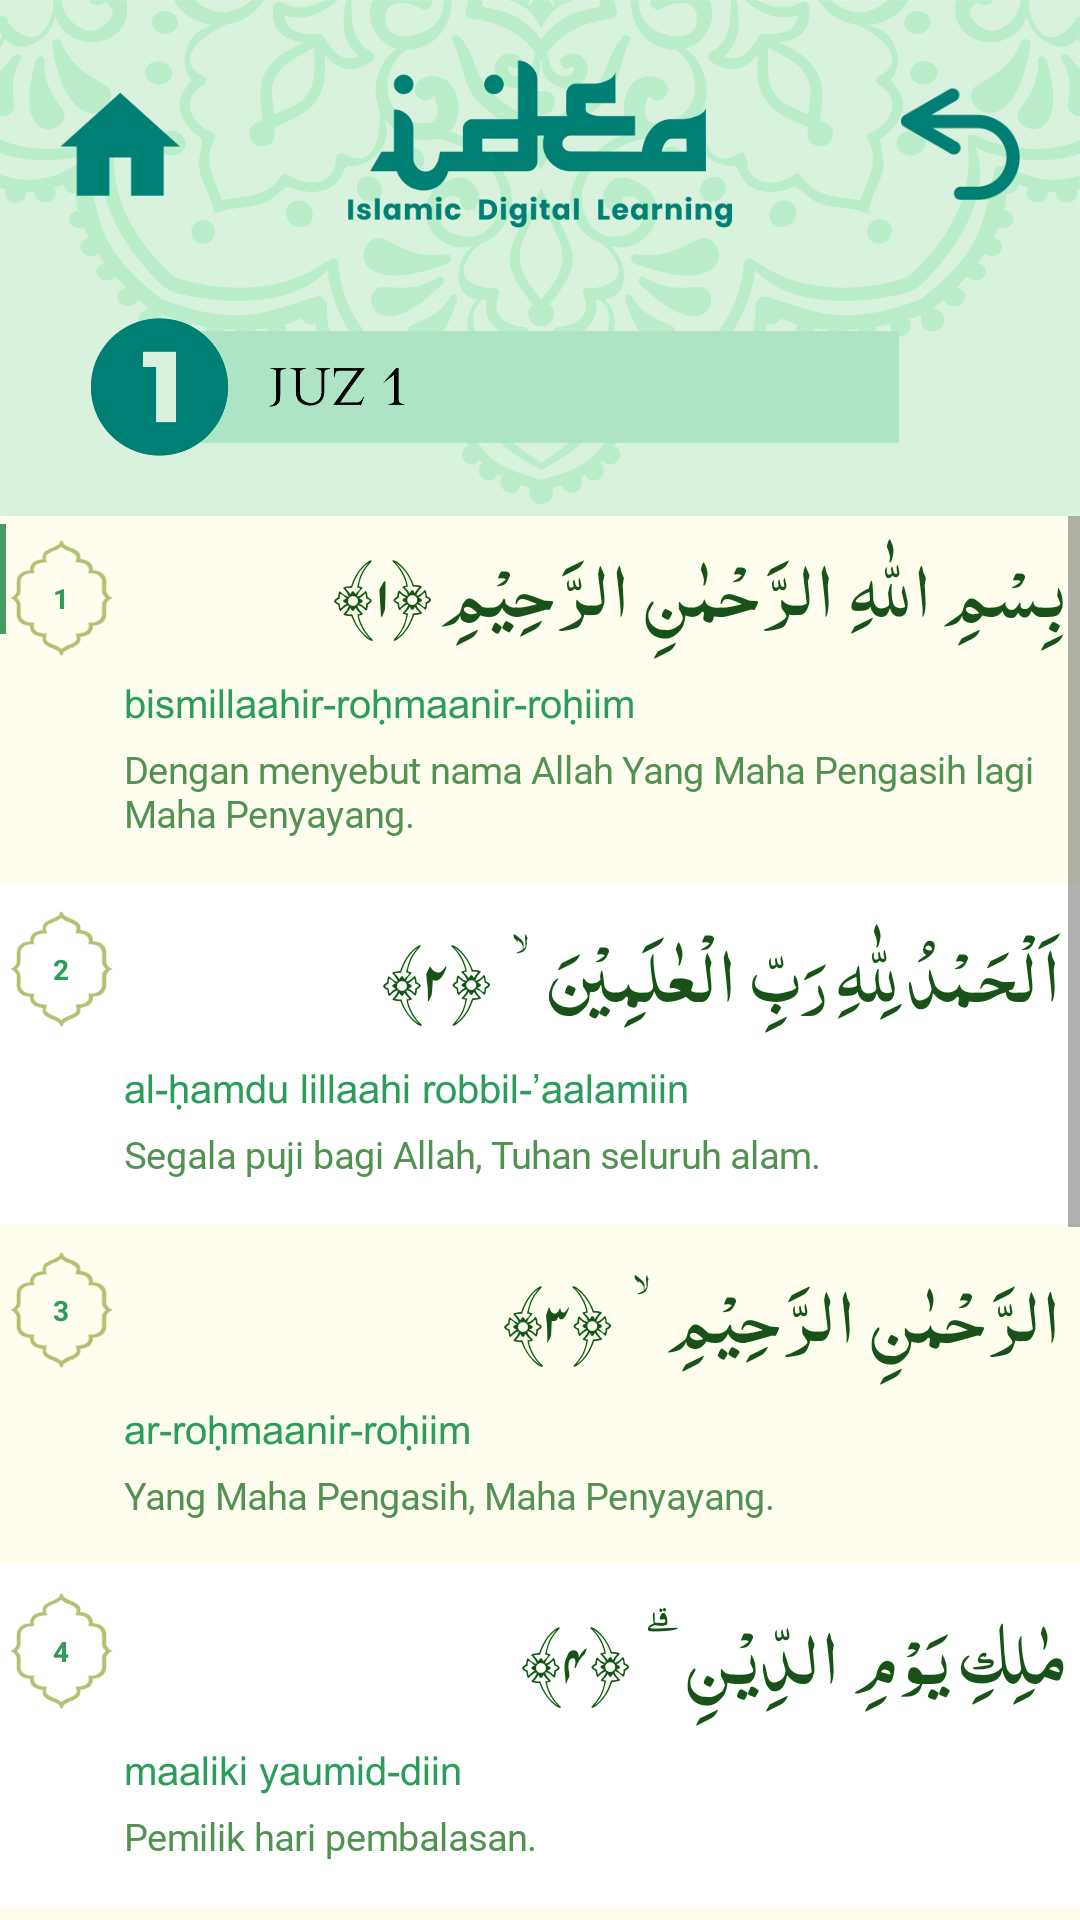

Named icons in this screenshot (1080 x 1920) and their bounding boxes, bbox=[x1, y1, x2, y2]:
back: bbox=[900, 84, 1020, 204]
home: bbox=[60, 84, 180, 204]
